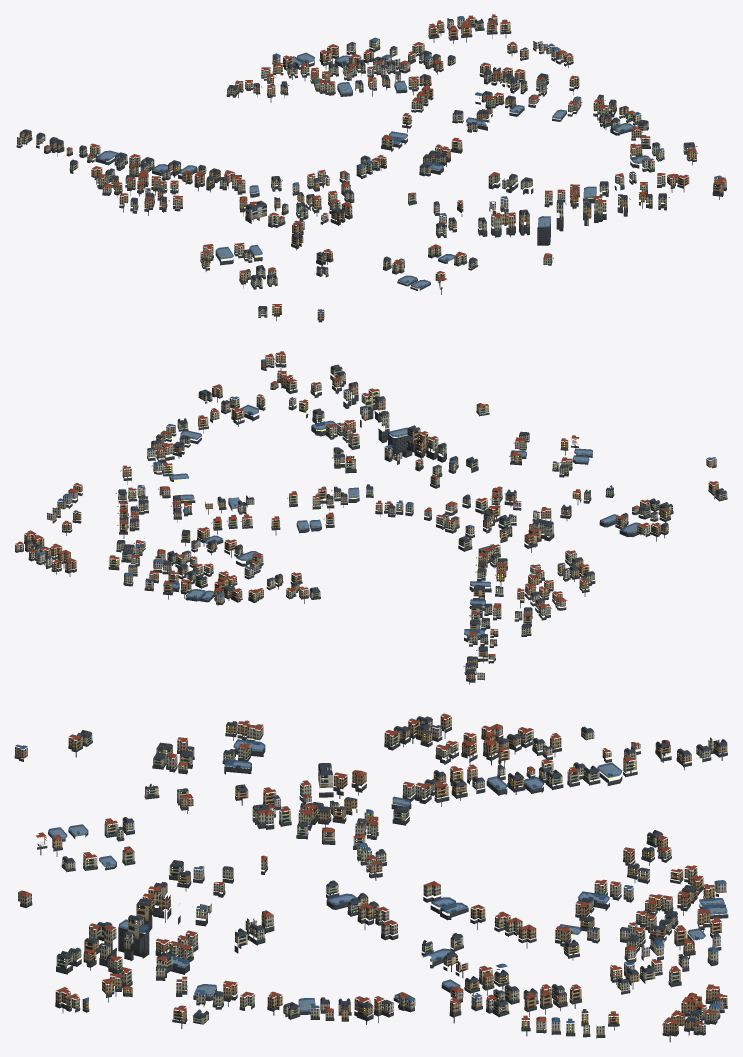
File: osm_buildings_T_W01_N00_Q2.glb
3 renders of one model, top to bottom at view 1: azimuth 30°, elevation 25°; view 2: azimuth 150°, elevation 25°; view 3: azimuth 270°, elevation 25°, orthographic. The views are drawn at different scales.
Parts seen in each view (by area): view 1: OSM_PBR_T_W01_N00_Q2_foundation, OSM_PBR_T_W01_N00_Q2_wall_cream_stucco, OSM_PBR_T_W01_N00_Q2_wall_french_ochre, OSM_PBR_T_W01_N00_Q2_roof_terracotta, OSM_PBR_T_W01_N00_Q2_roof_mansard_slate, OSM_PBR_T_W01_N00_Q2_greenhouse_blend, OSM_PBR_T_W01_N00_Q2_roof_mansard_deck, OSM_PBR_T_W01_N00_Q2_wall_warm_white, OSM_PBR_T_W01_N00_Q2_roof_mint_metal, OSM_PBR_T_W01_N00_Q2_wall_pastel_sand, OSM_PBR_T_W01_N00_Q2_trim_cornice; view 2: OSM_PBR_T_W01_N00_Q2_foundation, OSM_PBR_T_W01_N00_Q2_wall_cream_stucco, OSM_PBR_T_W01_N00_Q2_wall_french_ochre, OSM_PBR_T_W01_N00_Q2_roof_terracotta, OSM_PBR_T_W01_N00_Q2_roof_mansard_slate, OSM_PBR_T_W01_N00_Q2_greenhouse_blend, OSM_PBR_T_W01_N00_Q2_roof_mansard_deck, OSM_PBR_T_W01_N00_Q2_wall_warm_white, OSM_PBR_T_W01_N00_Q2_wall_pastel_sand, OSM_PBR_T_W01_N00_Q2_roof_mint_metal, OSM_PBR_T_W01_N00_Q2_trim_cornice, OSM_PBR_T_W01_N00_Q2_balcony_railing; view 3: OSM_PBR_T_W01_N00_Q2_foundation, OSM_PBR_T_W01_N00_Q2_wall_cream_stucco, OSM_PBR_T_W01_N00_Q2_wall_french_ochre, OSM_PBR_T_W01_N00_Q2_roof_terracotta, OSM_PBR_T_W01_N00_Q2_roof_mansard_slate, OSM_PBR_T_W01_N00_Q2_greenhouse_blend, OSM_PBR_T_W01_N00_Q2_roof_mansard_deck, OSM_PBR_T_W01_N00_Q2_wall_warm_white, OSM_PBR_T_W01_N00_Q2_roof_mint_metal, OSM_PBR_T_W01_N00_Q2_trim_cornice, OSM_PBR_T_W01_N00_Q2_wall_pastel_sand, OSM_PBR_T_W01_N00_Q2_balcony_railing (+2 smaller).
Part boxes in pixels (box(x1,y1,x2,y2)): OSM_PBR_T_W01_N00_Q2_foundation: box(16, 23, 726, 322); OSM_PBR_T_W01_N00_Q2_wall_cream_stucco: box(17, 15, 726, 315); OSM_PBR_T_W01_N00_Q2_wall_french_ochre: box(19, 20, 723, 320); OSM_PBR_T_W01_N00_Q2_roof_terracotta: box(44, 14, 726, 308); OSM_PBR_T_W01_N00_Q2_roof_mansard_slate: box(20, 18, 695, 310); OSM_PBR_T_W01_N00_Q2_greenhouse_blend: box(96, 52, 651, 288); OSM_PBR_T_W01_N00_Q2_roof_mansard_deck: box(21, 18, 694, 308); OSM_PBR_T_W01_N00_Q2_wall_warm_white: box(44, 17, 603, 277); OSM_PBR_T_W01_N00_Q2_roof_mint_metal: box(17, 23, 726, 314); OSM_PBR_T_W01_N00_Q2_wall_pastel_sand: box(102, 19, 636, 227); OSM_PBR_T_W01_N00_Q2_trim_cornice: box(25, 18, 724, 313); OSM_PBR_T_W01_N00_Q2_foundation: box(15, 362, 727, 684); OSM_PBR_T_W01_N00_Q2_wall_cream_stucco: box(15, 356, 727, 680); OSM_PBR_T_W01_N00_Q2_wall_french_ochre: box(24, 354, 718, 679); OSM_PBR_T_W01_N00_Q2_roof_terracotta: box(15, 351, 721, 655); OSM_PBR_T_W01_N00_Q2_roof_mansard_slate: box(25, 365, 726, 673); OSM_PBR_T_W01_N00_Q2_greenhouse_blend: box(163, 404, 645, 636); OSM_PBR_T_W01_N00_Q2_roof_mansard_deck: box(26, 364, 725, 671); OSM_PBR_T_W01_N00_Q2_wall_warm_white: box(36, 407, 657, 659); OSM_PBR_T_W01_N00_Q2_wall_pastel_sand: box(45, 398, 570, 608); OSM_PBR_T_W01_N00_Q2_roof_mint_metal: box(26, 360, 726, 677); OSM_PBR_T_W01_N00_Q2_trim_cornice: box(25, 355, 720, 675); OSM_PBR_T_W01_N00_Q2_balcony_railing: box(22, 379, 712, 638); OSM_PBR_T_W01_N00_Q2_foundation: box(14, 726, 728, 1042); OSM_PBR_T_W01_N00_Q2_wall_cream_stucco: box(18, 719, 719, 1032); OSM_PBR_T_W01_N00_Q2_wall_french_ochre: box(15, 716, 727, 1033); OSM_PBR_T_W01_N00_Q2_roof_terracotta: box(18, 713, 727, 1024); OSM_PBR_T_W01_N00_Q2_roof_mansard_slate: box(57, 717, 727, 1022); OSM_PBR_T_W01_N00_Q2_greenhouse_blend: box(48, 739, 727, 1011); OSM_PBR_T_W01_N00_Q2_roof_mansard_deck: box(49, 716, 726, 1019); OSM_PBR_T_W01_N00_Q2_wall_warm_white: box(124, 741, 726, 1035); OSM_PBR_T_W01_N00_Q2_roof_mint_metal: box(21, 723, 726, 1030); OSM_PBR_T_W01_N00_Q2_trim_cornice: box(17, 719, 726, 1028); OSM_PBR_T_W01_N00_Q2_wall_pastel_sand: box(156, 727, 724, 1031); OSM_PBR_T_W01_N00_Q2_balcony_railing: box(45, 718, 717, 1023).
Bounding box in the file's own units: 1002 × 87.26 × 979.
Materials: 18 (16 with a texture image).
